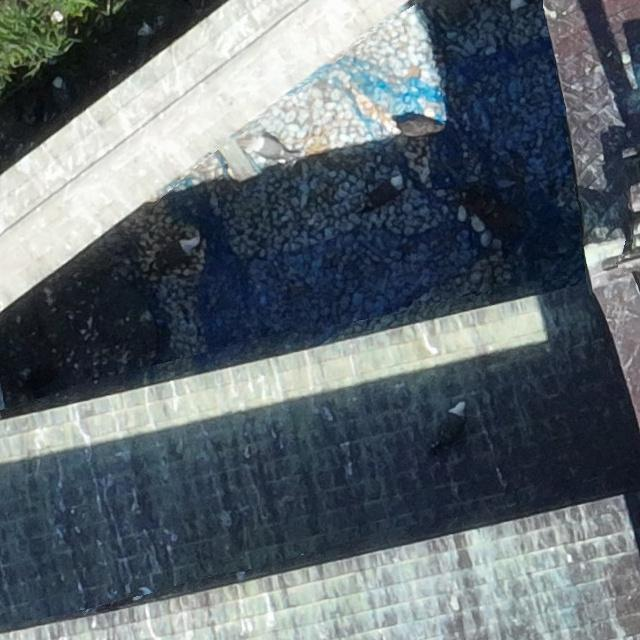umineko: (440, 400, 467, 449), (160, 237, 204, 267), (376, 175, 409, 205), (257, 137, 284, 155), (52, 78, 68, 102), (136, 21, 160, 36)
